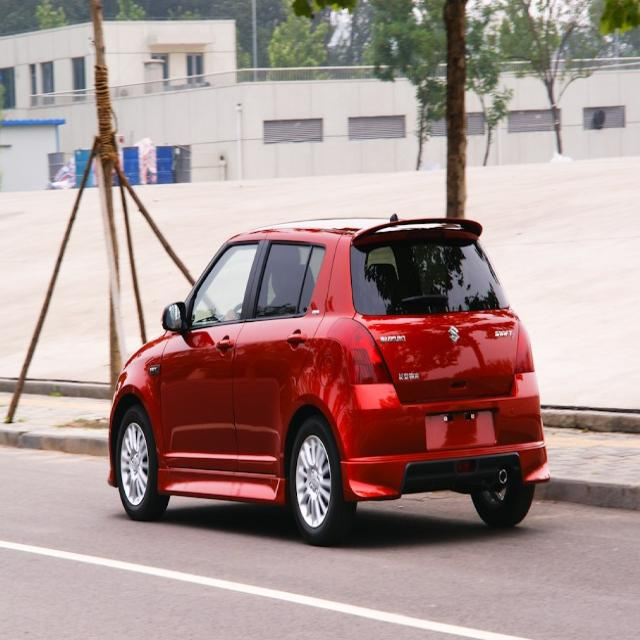back_glass: (349, 232, 512, 318)
back_left_side_light: (326, 316, 394, 385)
back_right_side_light: (514, 317, 535, 375)
door: (233, 240, 330, 477)
front_left_side_door: (159, 227, 270, 498)
front_left_side_mirror: (161, 301, 188, 334)
rear_bumper: (329, 391, 552, 503)
wheel: (287, 413, 358, 543), (114, 402, 170, 521), (468, 482, 536, 526)
